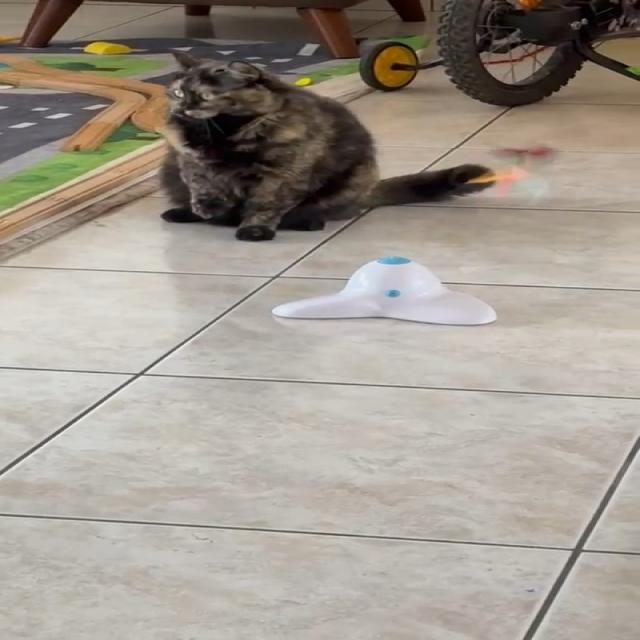authorized: (156, 52, 496, 242)
